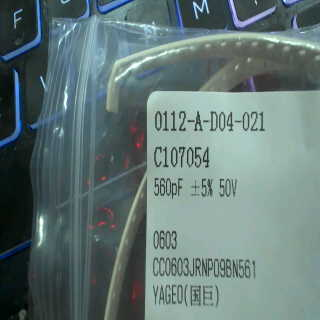560pF: (152, 171, 187, 199)
